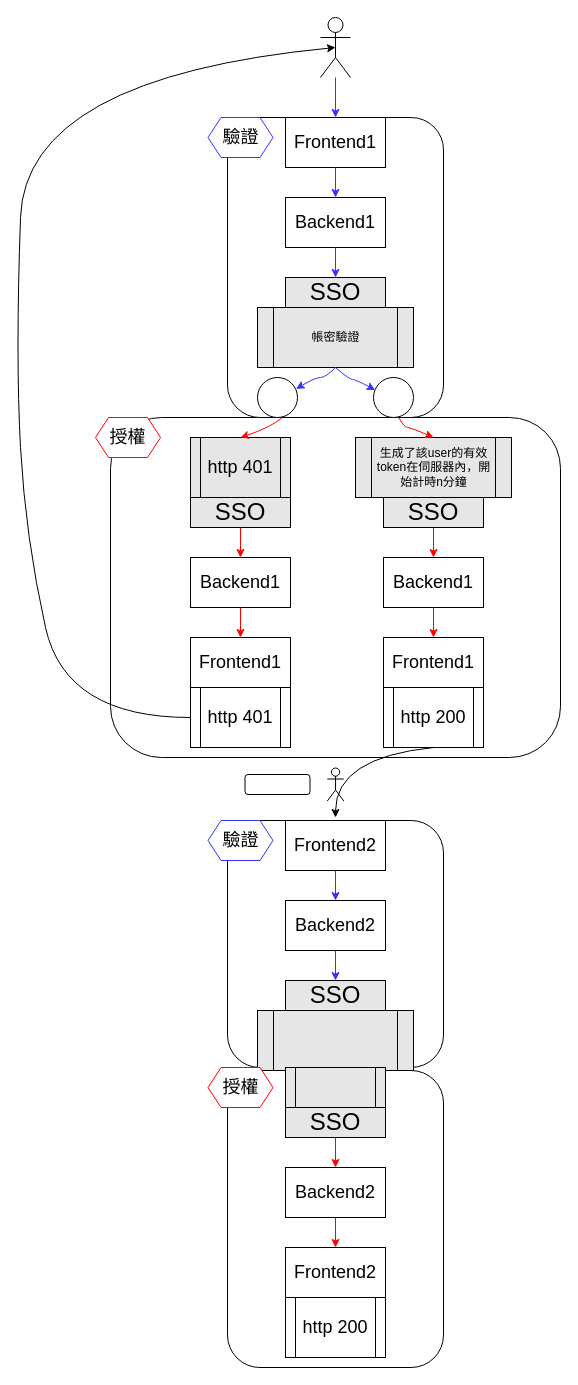
The diagram is 578 pixels wide and 1385 high, and some of its shapes have lost their labels. The shapes that lost their labels are listed below. From the top down, each one's centre as x and y in pixels, then its label:
point 277,397: 錯誤
point 393,397: 正確
point 277,784: n 分鐘內
point 335,1040: 看到前端傳了的token (儲存在Session Cookie)
point 335,1087: 直接授權
